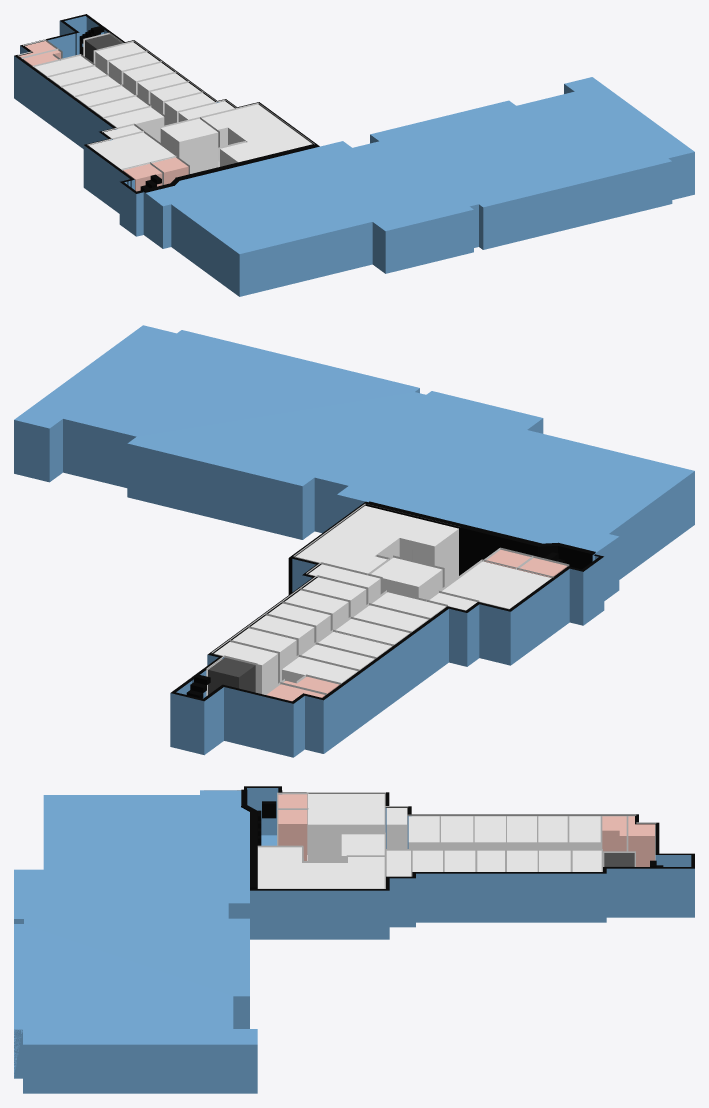
3 renders of one model, top to bottom at view 1: azimuth 30°, elevation 25°; view 2: azimuth 150°, elevation 25°; view 3: azimuth 270°, elevation 25°, orthographic. The views are drawn at different scales.
Parts seen in each view (by area): view 1: object, room_1_4_14, room_1_4_16, room_1_4_15, room_1_4_8, room_1_4_6, room_1_4_2, room_1_4_5, room_1_4_3, room_1_4_11, room_1_4_7, room_1_4_9 (+8 smaller); view 2: object, room_1_4_14, room_1_4_15, room_1_4_16, room_1_4_7, エレベーター_1_4_1, room_1_4_13, room_1_4_5, room_1_4_6, room_1_4_3, room_1_4_2, room_1_4_10 (+6 smaller); view 3: object, room_1_4_14, room_1_4_15, トイレ_1_4_2, room_1_4_9, トイレ_1_4_1, room_1_4_13, room_1_4_10, room_1_4_8, room_1_4_16, room_1_4_11, room_1_4_12 (+9 smaller).
Part boxes in pixels (box(x1,y1,x2,y2)): object: box(14, 14, 694, 296); room_1_4_14: box(202, 104, 312, 166); room_1_4_16: box(160, 118, 218, 173); room_1_4_15: box(89, 132, 176, 170); room_1_4_8: box(104, 107, 164, 141); room_1_4_6: box(109, 52, 160, 84); room_1_4_2: box(164, 93, 214, 124); room_1_4_5: box(123, 63, 173, 93); room_1_4_3: box(150, 82, 200, 113); room_1_4_11: box(62, 76, 120, 97); room_1_4_7: box(95, 42, 144, 72); room_1_4_9: box(90, 96, 148, 117); object: box(14, 325, 694, 757); room_1_4_14: box(295, 506, 458, 585); room_1_4_15: box(442, 561, 551, 609); room_1_4_16: box(371, 557, 442, 599); room_1_4_7: box(214, 642, 277, 694); エレベーター_1_4_1: box(208, 657, 255, 694); room_1_4_13: box(282, 657, 357, 683); room_1_4_5: box(249, 615, 314, 655); room_1_4_6: box(232, 628, 296, 667); room_1_4_3: box(284, 590, 348, 629); room_1_4_2: box(303, 577, 366, 615); room_1_4_10: box(334, 619, 409, 646); object: box(14, 786, 694, 1093); room_1_4_14: box(258, 847, 384, 888); room_1_4_15: box(308, 794, 384, 860); トイレ_1_4_2: box(278, 810, 307, 860); room_1_4_9: box(441, 816, 473, 848); トイレ_1_4_1: box(628, 816, 654, 866); room_1_4_13: box(569, 816, 600, 848); room_1_4_10: box(474, 816, 505, 848); room_1_4_8: box(408, 816, 439, 848); room_1_4_16: box(341, 834, 384, 860); room_1_4_11: box(507, 816, 536, 848); room_1_4_12: box(538, 816, 567, 848).
Bounding box in the file's own units: 2.05 × 0.1866 × 2.29.
